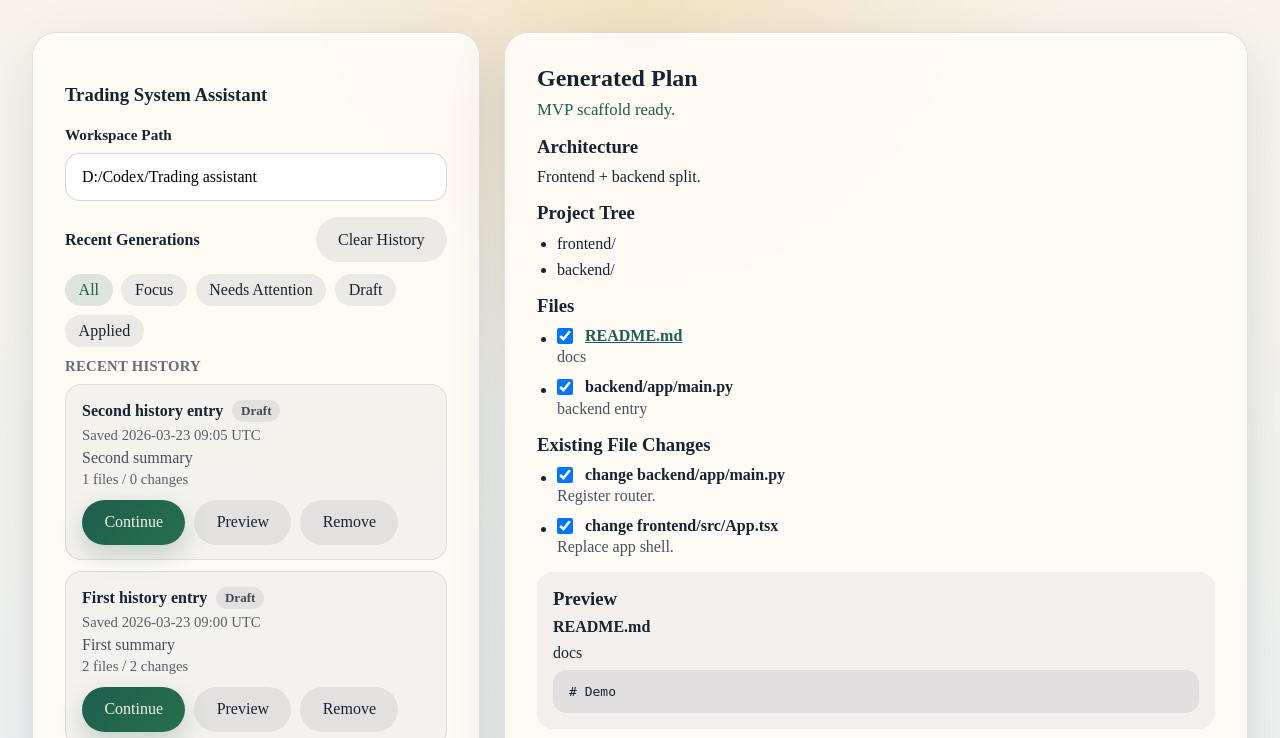
Scenario: App › keeps only one generation history preview open at a time
The image size is (1280, 738).
Click the button with aria-label "preview first history entry" at (243, 709), box [194,687,292,732]
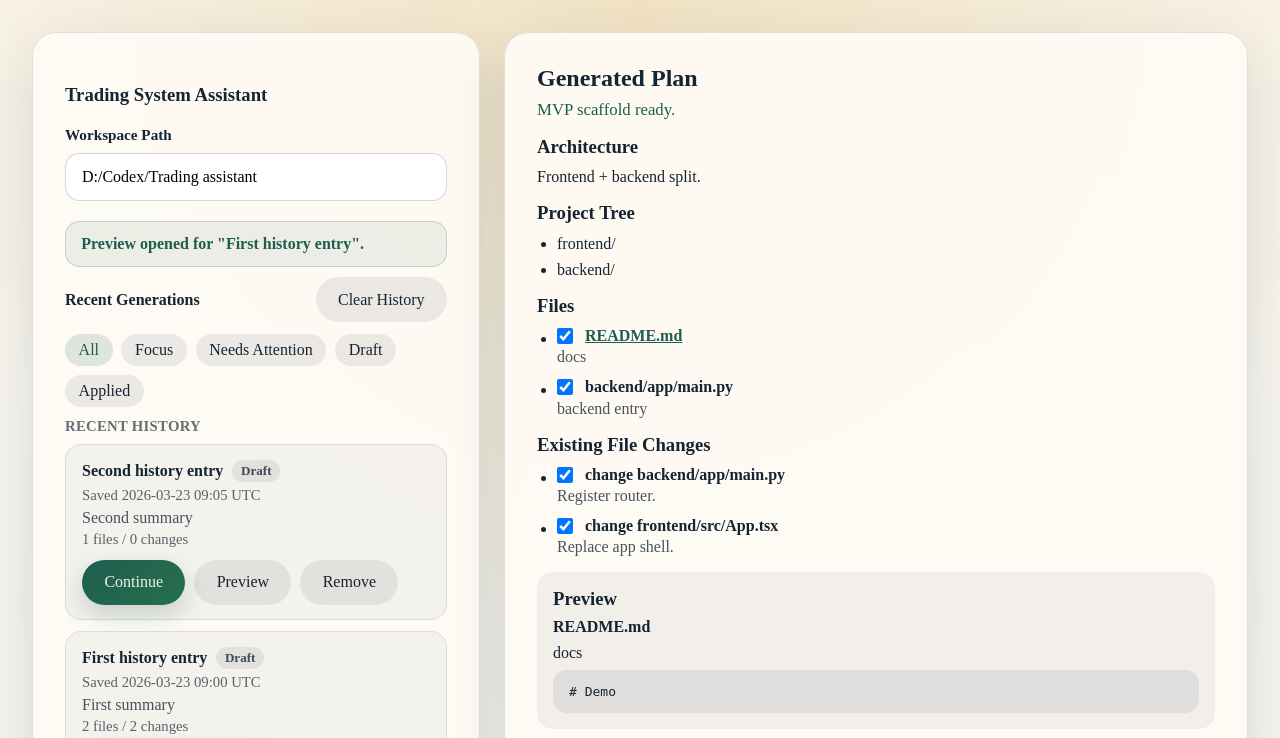
Click the button with aria-label "preview second history entry" at (243, 582), box [194,560,292,605]
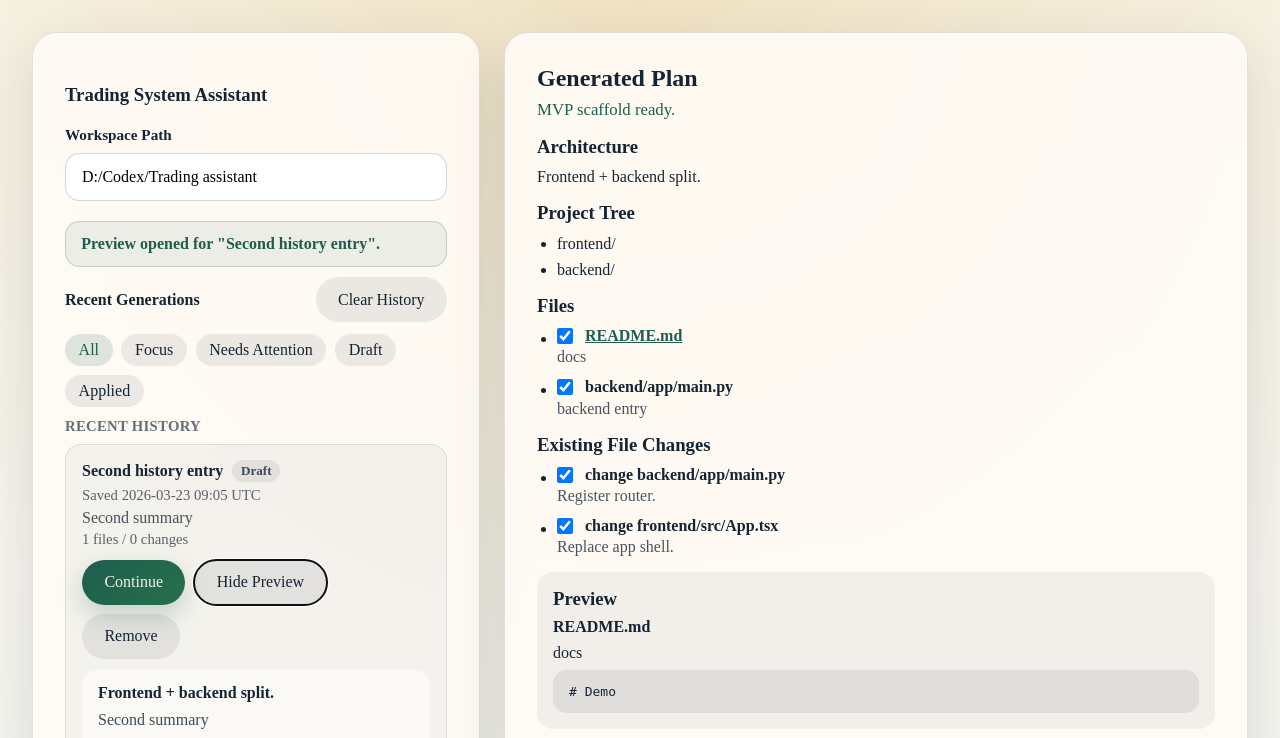
Check: the 2nd text "Second summary" is shown, box [98,711,209,728]
